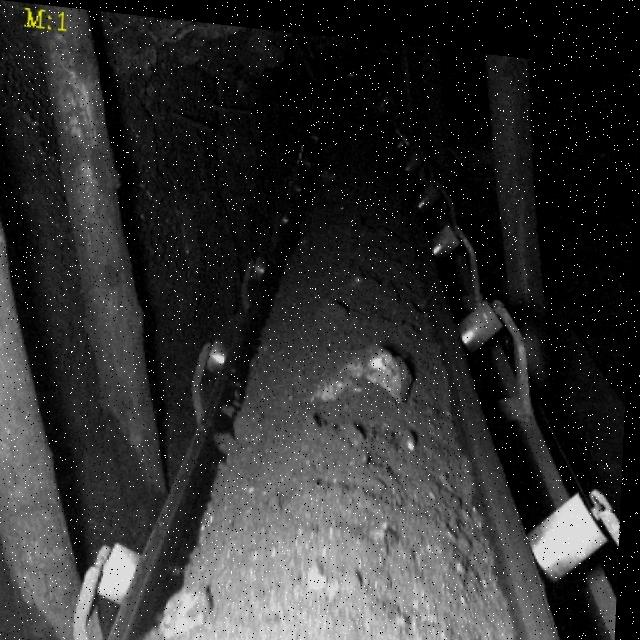large_sized_coal: (320, 331, 417, 405)
